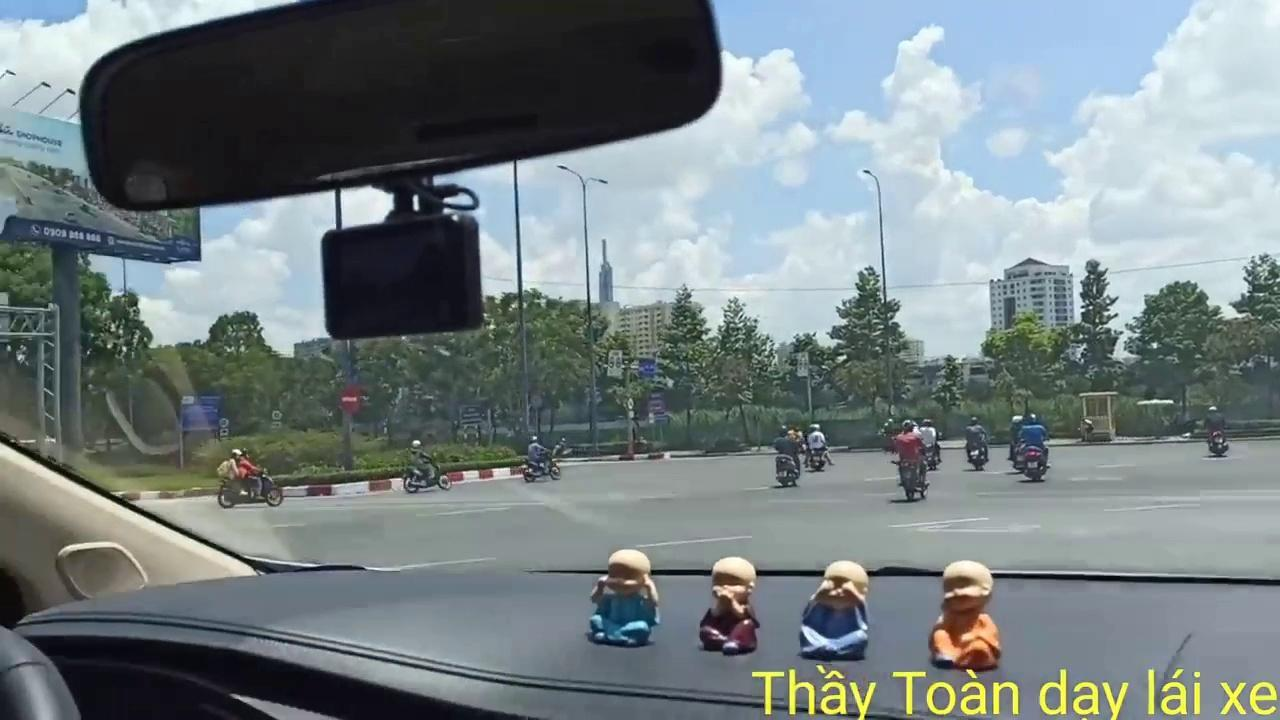Cấm cac phương tiện hoạt động trong khung giờ cố định: (607, 348, 623, 378)
Cấm đi ngược chiều: (336, 382, 366, 416)
Khác: (177, 394, 225, 432)
